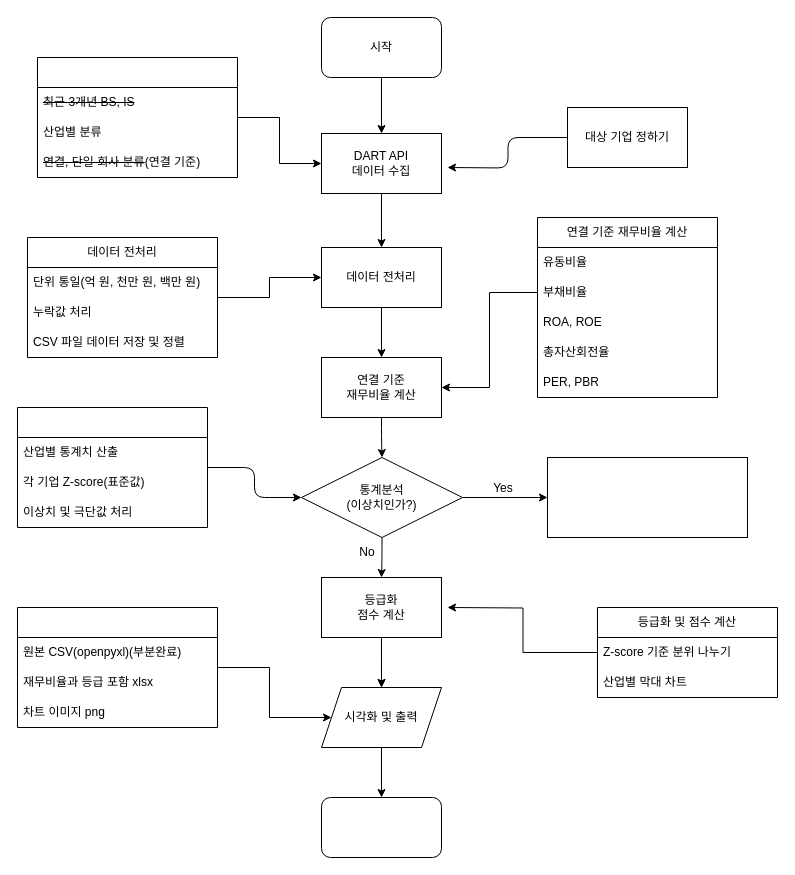
Some shapes in this 795 by 875 pixel diagram are drawn without their labels. The box of each missing label's shape, as (x1, y1, x2, y2) in pixels:
데이터 수집(dart_fss, pandas): (36, 56, 238, 178)
시각화 및 출력(matplotlib, seaborn): (16, 606, 218, 728)
종료: (320, 796, 442, 858)
주요 자회사 개별 재무제표 분석 (사업보고서 - 연결대상 종속회사 요약재무정보): (546, 456, 748, 538)
통계 분석(numpy): (16, 406, 208, 528)
